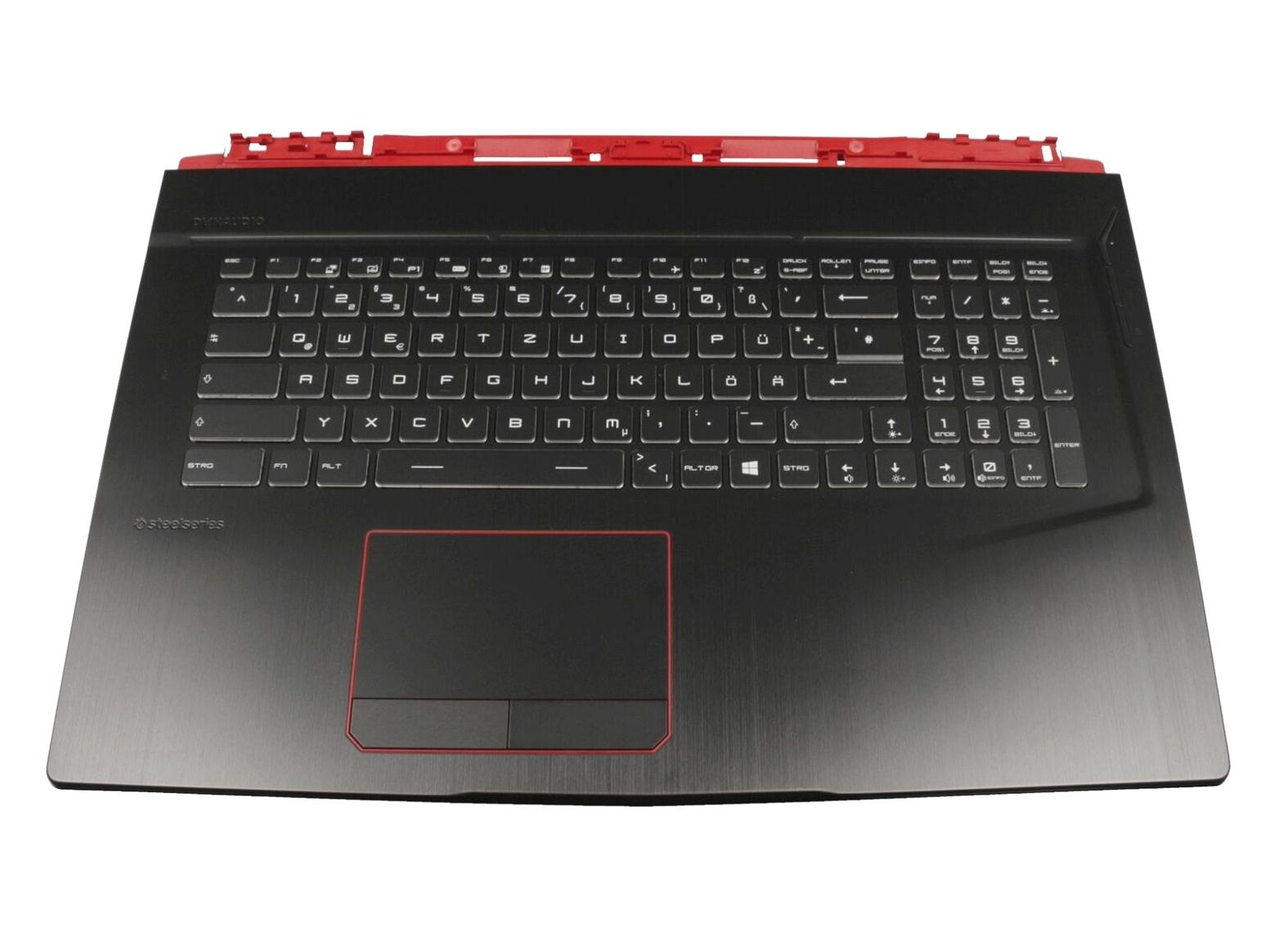0: (684, 279, 725, 314)
1: (275, 277, 315, 313)
2: (319, 277, 361, 314)
3: (364, 276, 405, 313)
4: (410, 277, 451, 313)
5: (455, 277, 496, 313)
6: (501, 277, 542, 313)
7: (548, 276, 588, 314)
8: (594, 277, 634, 314)
9: (639, 278, 680, 314)
a: (282, 356, 325, 396)
accent: (775, 278, 815, 314)
ae: (755, 357, 797, 397)
alt-left: (312, 441, 368, 486)
altgr-right: (679, 443, 725, 486)
b: (492, 399, 536, 440)
c: (396, 398, 440, 440)
caret: (209, 279, 271, 313)
comma: (638, 401, 680, 440)
d: (376, 356, 419, 396)
del: (821, 277, 897, 315)
e: (368, 314, 410, 355)
enter: (801, 358, 905, 397)
f: (424, 356, 465, 396)
g: (471, 356, 513, 396)
h: (518, 356, 560, 396)
hash: (832, 316, 901, 355)
i: (601, 315, 642, 354)
j: (566, 356, 608, 397)
k: (613, 356, 655, 396)
keyboard: (162, 232, 1146, 505)
l: (661, 357, 702, 396)
less: (628, 445, 673, 488)
m: (589, 399, 633, 441)
minus: (733, 401, 775, 441)
n: (541, 399, 585, 440)
o: (647, 316, 689, 355)
oe: (708, 357, 750, 397)
p: (693, 316, 735, 355)
plus: (786, 316, 828, 356)
point: (685, 401, 727, 440)
q: (276, 315, 319, 355)
r: (415, 315, 456, 354)
s: (329, 356, 372, 396)
shift-left: (186, 396, 298, 439)
shift-lock: (193, 356, 279, 396)
shift-right: (781, 398, 863, 441)
space: (371, 444, 626, 486)
ss: (729, 280, 770, 314)
strg-left: (176, 441, 264, 485)
strg-right: (774, 445, 819, 487)
t: (461, 314, 502, 353)
tab: (201, 316, 272, 353)
u: (554, 314, 595, 355)
ue: (740, 316, 782, 355)
v: (444, 398, 487, 441)
w: (321, 314, 364, 354)
x: (348, 399, 392, 440)
y: (301, 399, 343, 439)
z: (507, 315, 549, 354)
